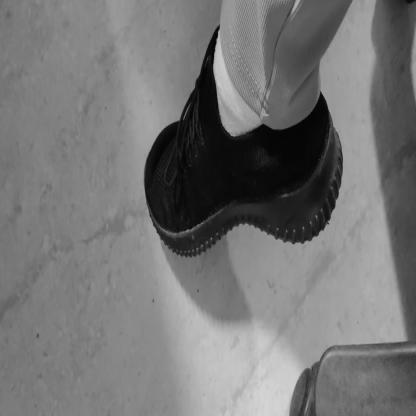ankle: (247, 132, 253, 145)
heel: (327, 127, 332, 136)
pinky: (178, 125, 184, 132)
right_foot: (144, 93, 348, 259)
toe: (148, 189, 152, 198)
